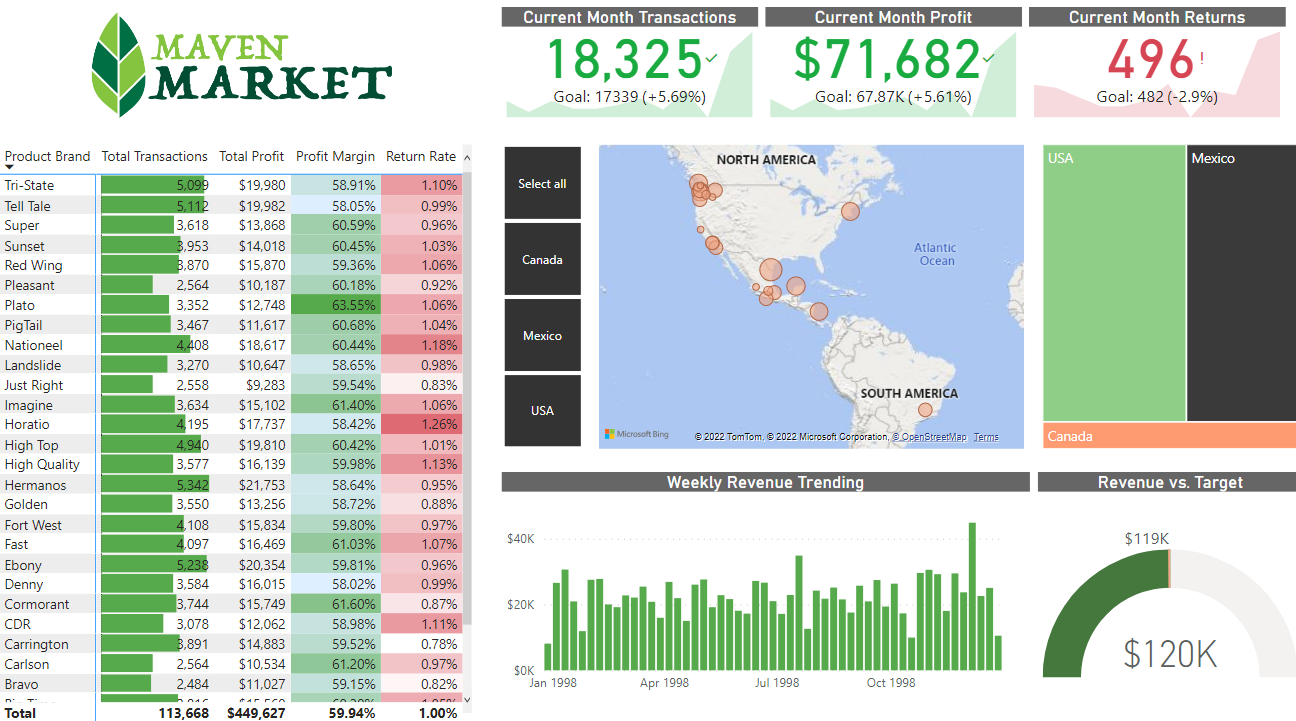

The page's visual inventory and layout, read from the dashboard file:
{"tool":"powerbi","page":{"name":"Topline Performance","canvas":[1280,720],"ordinal":0},"visuals":[{"type":"image","box":[10.1,6.8,462.4,127.4],"z":0},{"type":"pivotTable","fields":{"Values":["Transactions_Data.Total Transactions","Transactions_Data.Total Profit","Transactions_Data.Profit Margin","Return Data.Return Rate"],"Rows":["Products.product_brand"]},"box":[0,144.4,472.5,575.2],"z":1000},{"type":"map","fields":{"Size":["Transactions_Data.Total Transactions"],"Category":["Stores.store_city"]},"box":[586.5,144,426,307.4],"z":2000},{"type":"kpi","title":"Current Month Returns","fields":{"TrendLine":["Calendar.Start of Month"],"Indicator":["Return Data.Total Returns"],"Goal":["Return Data.Last Month Returns"]},"box":[1012.5,14.6,250.9,112.8],"z":3000},{"type":"kpi","title":"Current Month Profit","fields":{"TrendLine":["Calendar.Start of Month"],"Indicator":["Transactions_Data.Total Profit"],"Goal":["Transactions_Data.Last Month Profit"]},"box":[754.8,14.6,250.9,112.8],"z":4000},{"type":"kpi","title":"Current Month Transactions","fields":{"Indicator":["Transactions_Data.Total Transactions"],"TrendLine":["Calendar.Start of Month"],"Goal":["Transactions_Data.Last Month Transactions"]},"box":[496,14.6,250.9,112.8],"z":5000},{"type":"slicer","fields":{"Values":["Stores.store_country"]},"box":[472.7,144,124.5,307.4],"z":6000},{"type":"treemap","fields":{"Values":["Transactions_Data.Total Transactions"],"Group":["Stores.store_country","Stores.store_state","Stores.store_city"]},"box":[1020.3,144,259.7,307.4],"z":7000},{"type":"columnChart","title":"Weekly Revenue Trending","fields":{"Y":["Transactions_Data.Total Revenue"],"Category":["Calendar.Start of Week"]},"box":[496,468.8,516.5,224.7],"z":8000},{"type":"gauge","title":"Revenue vs. Target","fields":{"Y":["Transactions_Data.Total Revenue"],"TargetValue":["Transactions_Data.Revenue Target"]},"box":[1020.3,468.8,259.7,225.7],"z":9000}]}

Visuals, with their boxes in screenshot pixels (x1, y1, x2, y2), scaled from the page's 1280x720 canvas onto the 1296x721 screenshot:
image: {"x1": 10, "y1": 7, "x2": 478, "y2": 134}
pivotTable - Transactions_Data.Total Transactions x Transactions_Data.Total Profit: {"x1": 0, "y1": 145, "x2": 478, "y2": 720}
map - Transactions_Data.Total Transactions x Stores.store_city: {"x1": 594, "y1": 144, "x2": 1025, "y2": 452}
"Current Month Returns" kpi: {"x1": 1025, "y1": 15, "x2": 1279, "y2": 128}
"Current Month Profit" kpi: {"x1": 764, "y1": 15, "x2": 1018, "y2": 128}
"Current Month Transactions" kpi: {"x1": 502, "y1": 15, "x2": 756, "y2": 128}
slicer - Stores.store_country: {"x1": 479, "y1": 144, "x2": 605, "y2": 452}
treemap - Transactions_Data.Total Transactions x Stores.store_country: {"x1": 1033, "y1": 144, "x2": 1295, "y2": 452}
"Weekly Revenue Trending" columnChart: {"x1": 502, "y1": 469, "x2": 1025, "y2": 694}
"Revenue vs. Target" gauge: {"x1": 1033, "y1": 469, "x2": 1295, "y2": 695}
